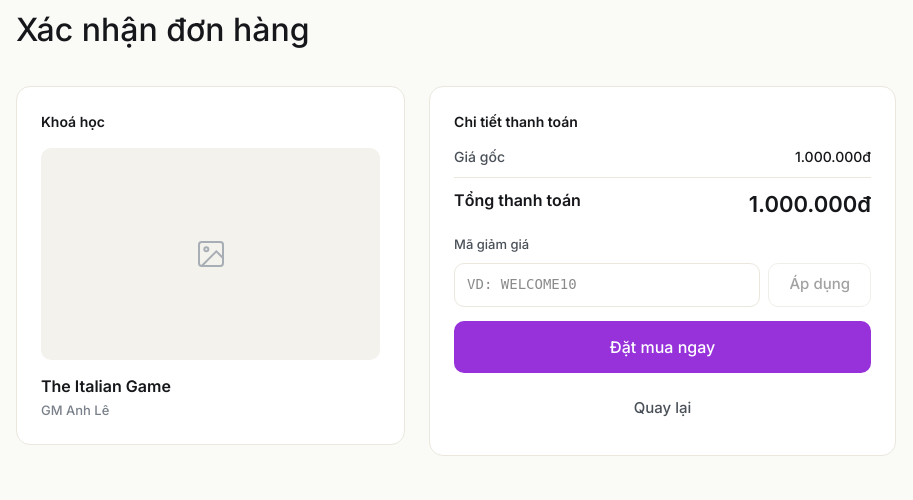
Test: ConfirmPurchasePage › shows the Vietnamese error for voucher_not_found
Step 1. Type "BADCODE" into the field with test id "voucher-input" → (607, 284), box [454, 262, 760, 306]
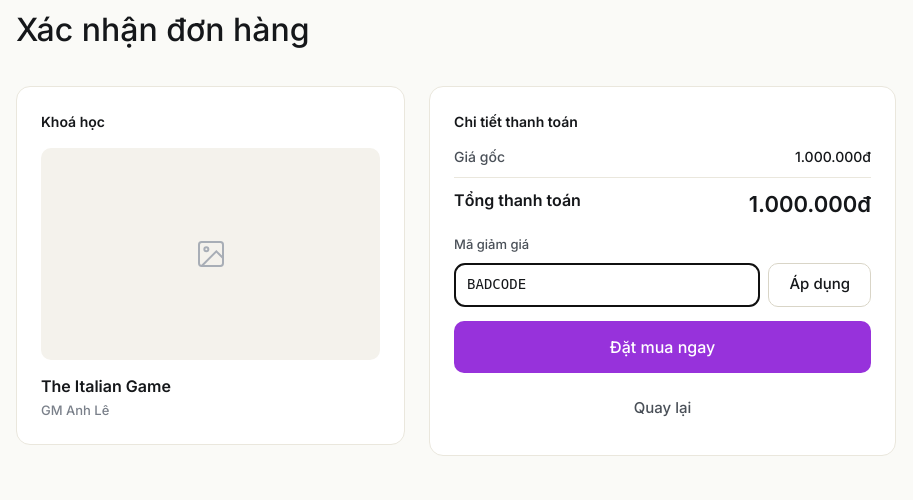
Step 2. Click the button with test id "voucher-apply-btn" → (820, 284), box [768, 262, 871, 306]
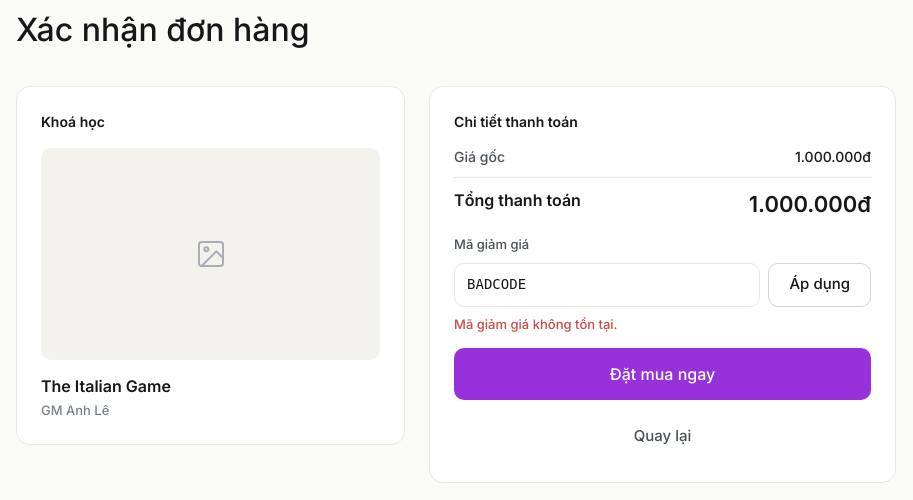
Now the text with test id "voucher-error" shows "không tồn tại", box [454, 316, 618, 332]
